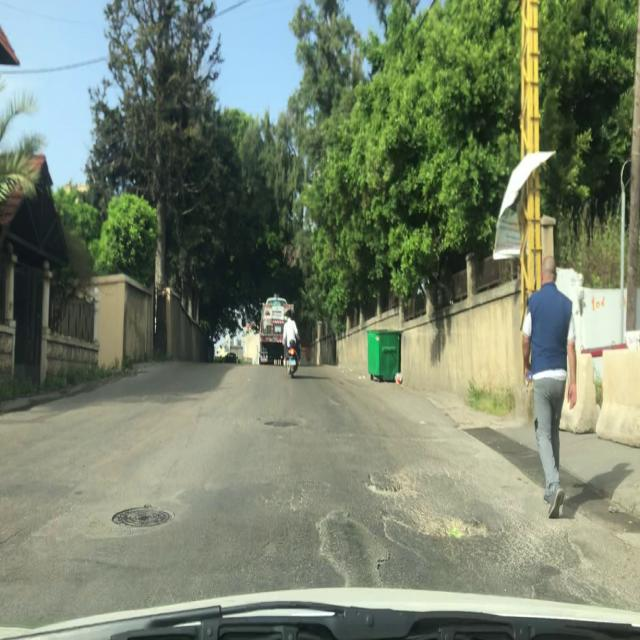Pothole: (414, 507, 489, 542), (362, 471, 429, 500)
